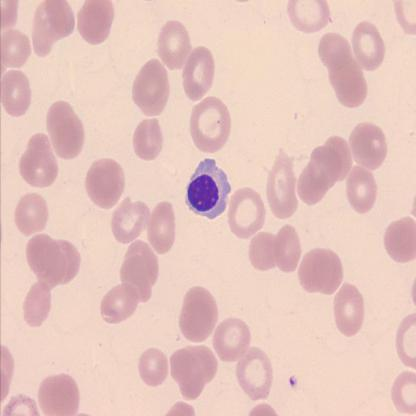NRC: (183, 156, 231, 220)
